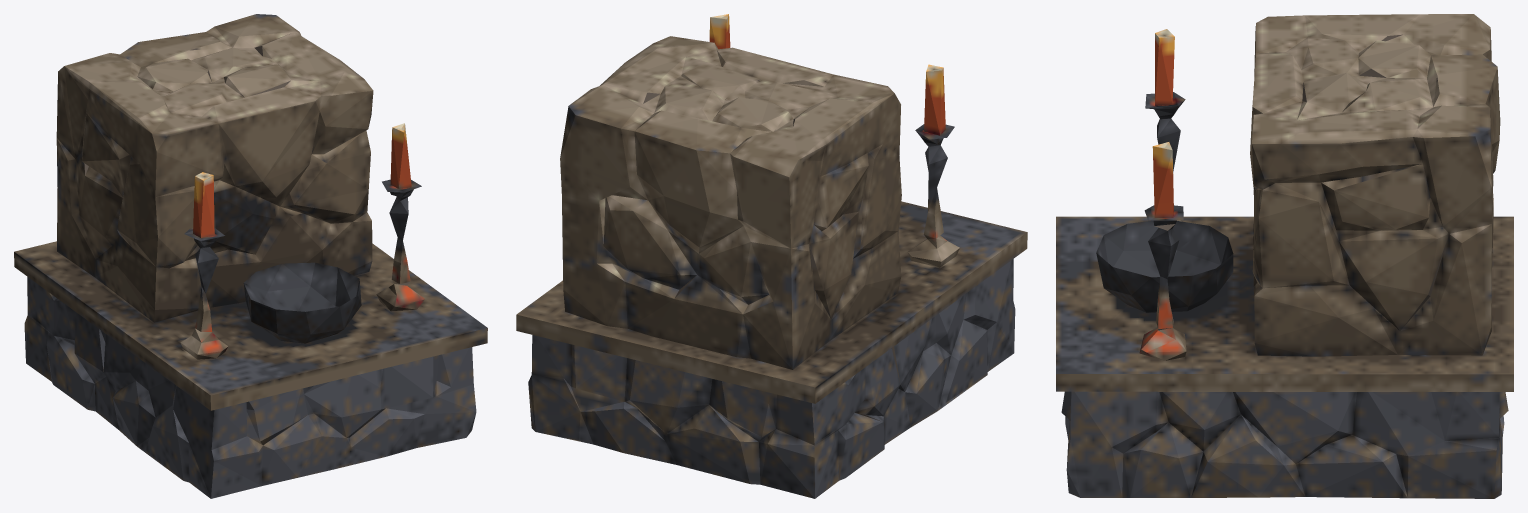
The model's file is SM_MeshyAltar.fbx.
3 views of the same model, side by side, from view 1: azimuth 30°, elevation 25°; view 2: azimuth 150°, elevation 25°; view 3: azimuth 270°, elevation 25° (orthographic). The views are drawn at different scales.
Visible parts, largest first — view 1: SM_MeshyAltar; view 2: SM_MeshyAltar; view 3: SM_MeshyAltar.
Part boxes in pixels (x1,y1,x2,y2): SM_MeshyAltar: (14,14,487,498); SM_MeshyAltar: (516,14,1027,498); SM_MeshyAltar: (1056,14,1513,498).
Bounding box in the file's own units: 1.15 × 1.2 × 1.41.
Materials: 1 (1 with a texture image).
